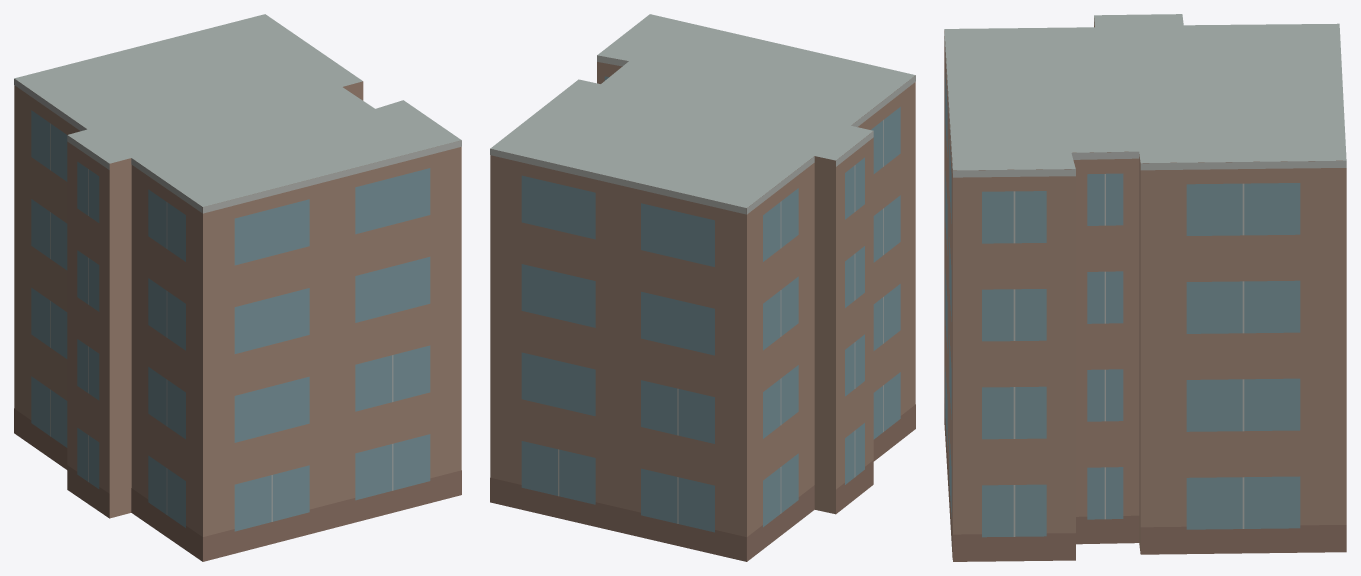
Rendered from survey-upis-32702324.glb.
The picture shows the model from 3 angles, left to right: view 1: azimuth 30°, elevation 25°; view 2: azimuth 150°, elevation 25°; view 3: azimuth 270°, elevation 25°; orthographic projection. The views are drawn at different scales.
Visible parts, largest first — view 1: survey-upis-32702324.tmp; view 2: survey-upis-32702324.tmp; view 3: survey-upis-32702324.tmp.
Part boxes in pixels (x1=…): survey-upis-32702324.tmp: x1=14, y1=14, x2=461, y2=561; survey-upis-32702324.tmp: x1=490, y1=14, x2=915, y2=561; survey-upis-32702324.tmp: x1=944, y1=14, x2=1346, y2=561.
Size of the model in its own units: 11.4 by 13.29 by 12.39.
